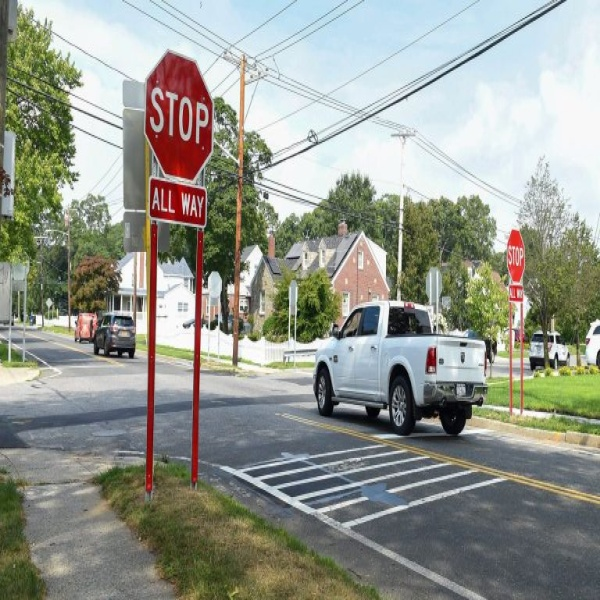stop: (145, 59, 211, 181), (497, 231, 526, 284)
